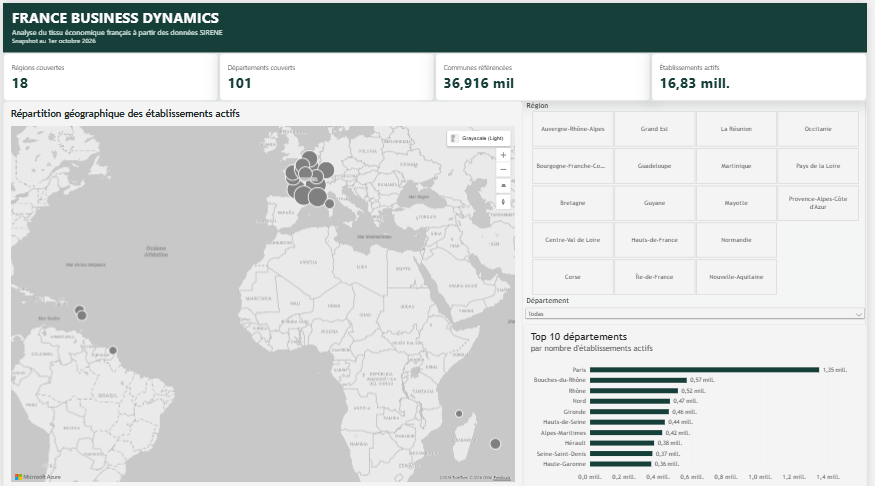

Layout of this report page (visuals, bound fields, positions):
{"tool":"powerbi","page":{"name":"Géographie","canvas":[1920,1080],"ordinal":1},"visuals":[{"type":"shape","box":[0,0,1920,1080],"z":0},{"type":"shape","box":[0,0,1920,110],"z":1000},{"type":"textbox","box":[0,0,1920,110],"z":2000},{"type":"cardVisual","fields":{"Data":["_Measures.Régions couvertes"]},"box":[0,110,480,107],"z":3000},{"type":"cardVisual","fields":{"Data":["_Measures.Départements couverts"]},"box":[480,110,480,107],"z":4000},{"type":"cardVisual","fields":{"Data":["_Measures.Communes référencées"]},"box":[960,110,480,107],"z":5000},{"type":"cardVisual","fields":{"Data":["_Measures.Établissements actifs"]},"box":[1440,110,480,107],"z":6000},{"type":"azureMap","title":"Répartition géographique des établissements actifs","fields":{"Category":["DimRegionMap.RegionName"],"Size":["_Measures.Établissements actifs"],"X":["Avg(DimRegionMap.Longitude)"],"Y":["Avg(DimRegionMap.Latitude)"]},"box":[0,217.5,1155,862.5],"z":7000},{"type":"slicer","fields":{"Values":["DimRegionMap.RegionName"]},"box":[1155,217.5,765,432.5],"z":8000},{"type":"slicer","fields":{"Values":["DimGeography.DepartmentName"]},"box":[1155,650,765,62.5],"z":9000},{"type":"clusteredBarChart","title":"Top 10 départements","fields":{"Category":["DimGeography.DepartmentName"],"Y":["_Measures.Établissements actifs"]},"box":[1155,712.5,765,367.5],"z":10000}]}

Visuals, with their boxes in screenshot pixels (x1, y1, x2, y2), scaled from the page's 1920x1080 canvas onto the 875x486 screenshot:
shape: BBox(0, 0, 874, 485)
shape: BBox(0, 0, 874, 50)
textbox: BBox(0, 0, 874, 50)
cardVisual - _Measures.Régions couvertes: BBox(0, 50, 219, 98)
cardVisual - _Measures.Départements couverts: BBox(219, 50, 438, 98)
cardVisual - _Measures.Communes référencées: BBox(438, 50, 656, 98)
cardVisual - _Measures.Établissements actifs: BBox(656, 50, 874, 98)
"Répartition géographique des établissements actifs" azureMap: BBox(0, 98, 526, 485)
slicer - DimRegionMap.RegionName: BBox(526, 98, 874, 292)
slicer - DimGeography.DepartmentName: BBox(526, 292, 874, 321)
"Top 10 départements" clusteredBarChart: BBox(526, 321, 874, 485)
